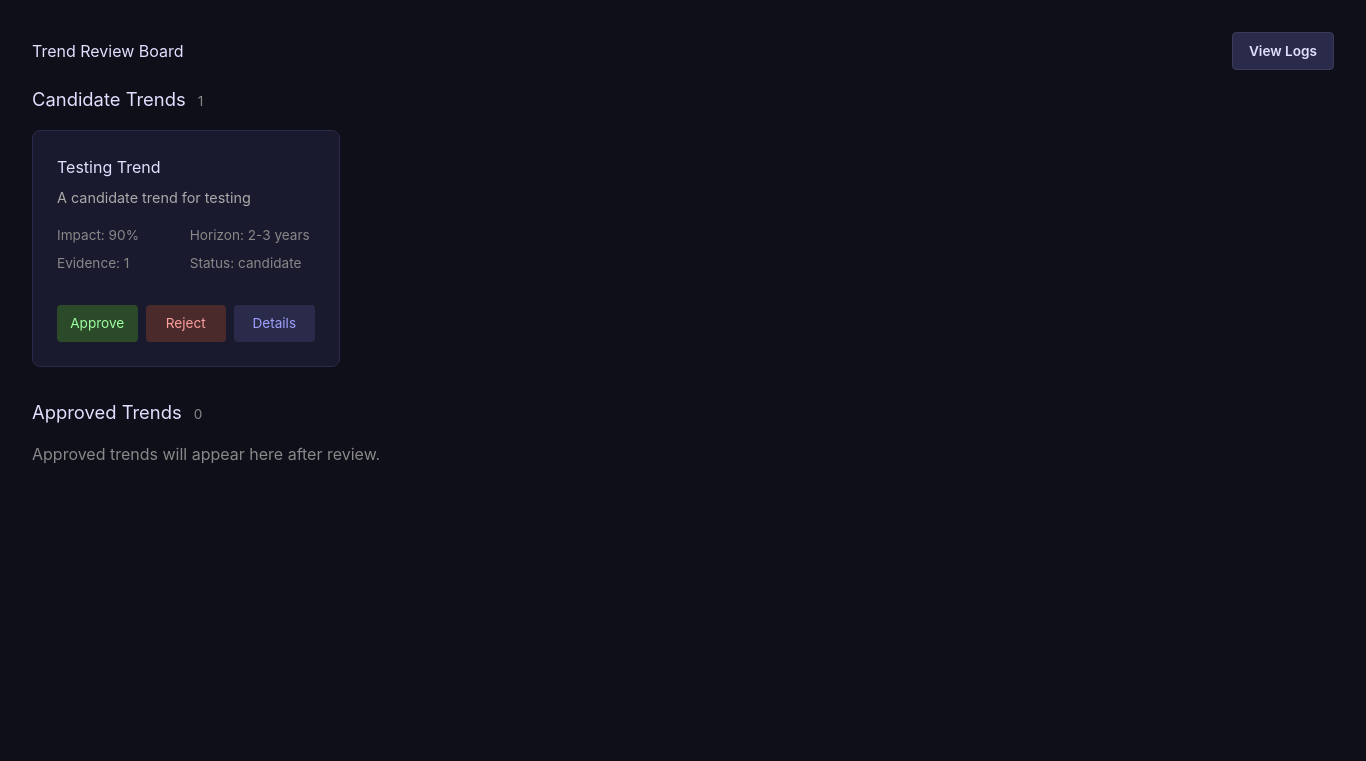
Scenario: TrendReviewBoard › allows inline editing of trend name
Click the button "Details". click: [274, 324]
box: [234,305,314,342]
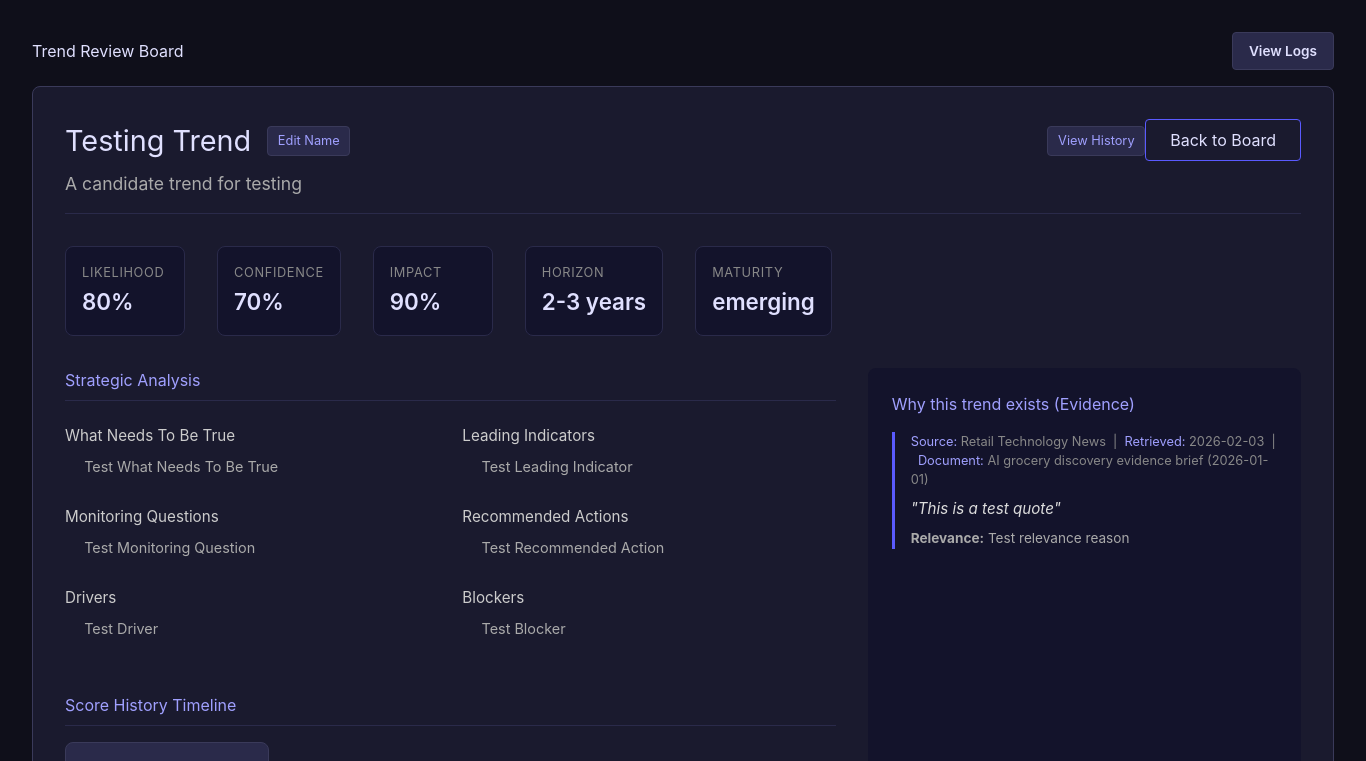
Go into edit mode
Click the button "Edit Name". click: [309, 141]
box: [267,126,350,156]
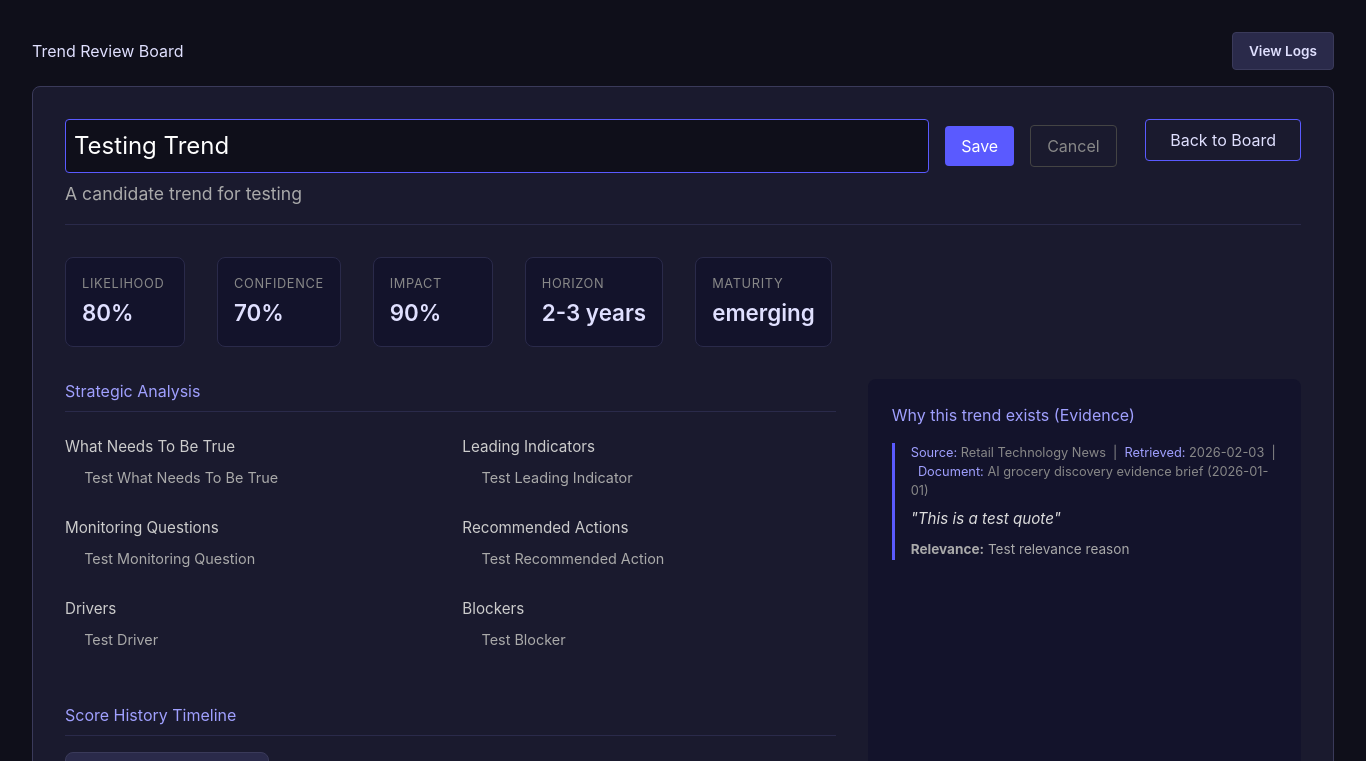
Expected: the field named "Edit trend name" is shown
Type a new name
Replace the text in the field named "Edit trend name" with "Updated Executive Trend Name". click: [497, 146]
box: [65,119,929,173]
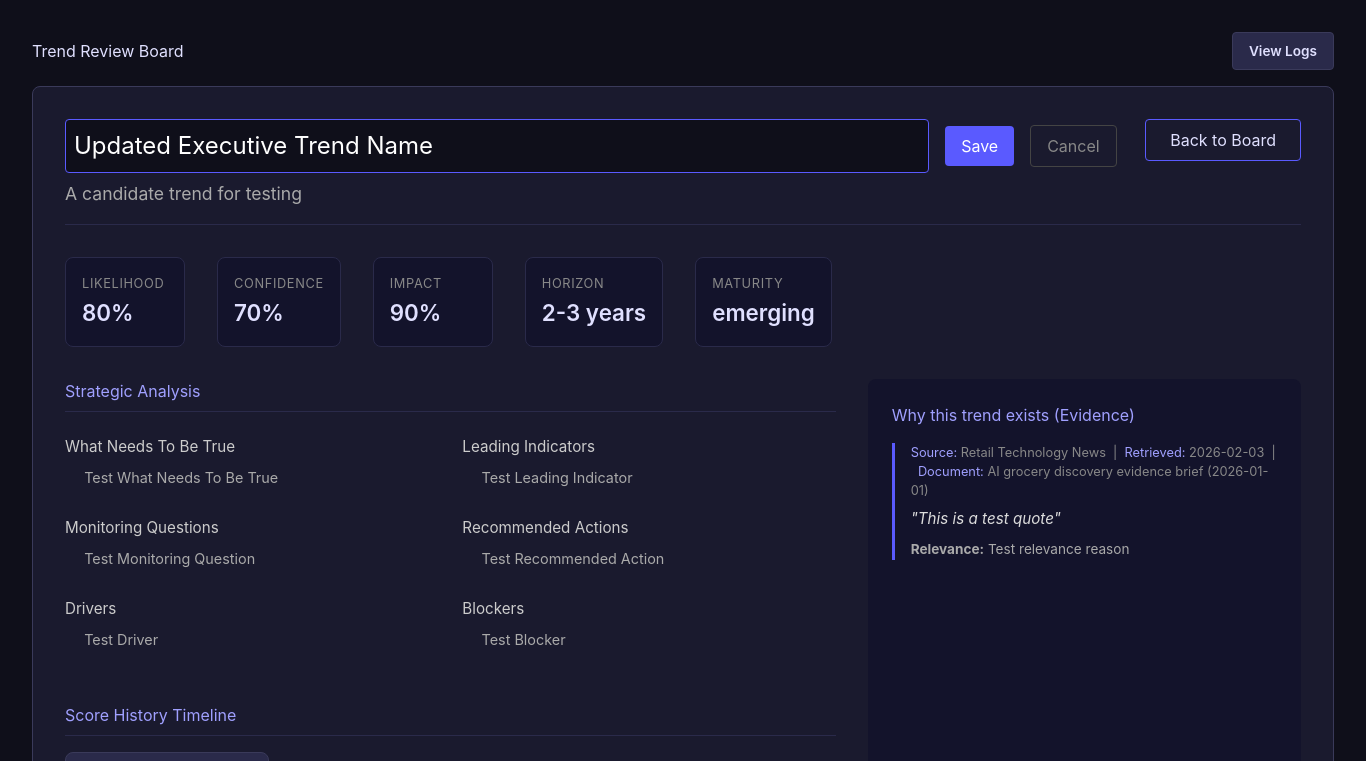
Click the button "Save". click: [980, 146]
box: [945,126,1014,166]
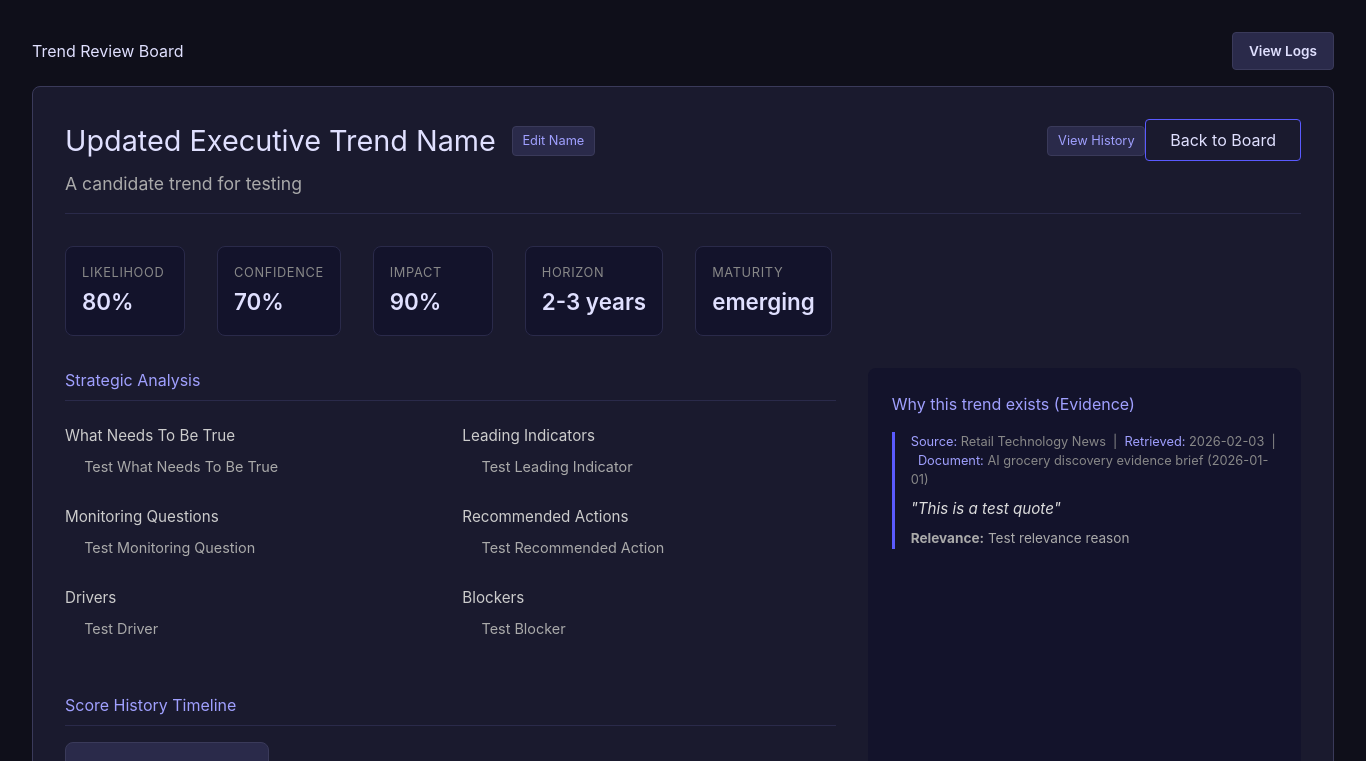
Expected: the heading "Updated Executive Trend Name" is shown, [65,119,496,163]
